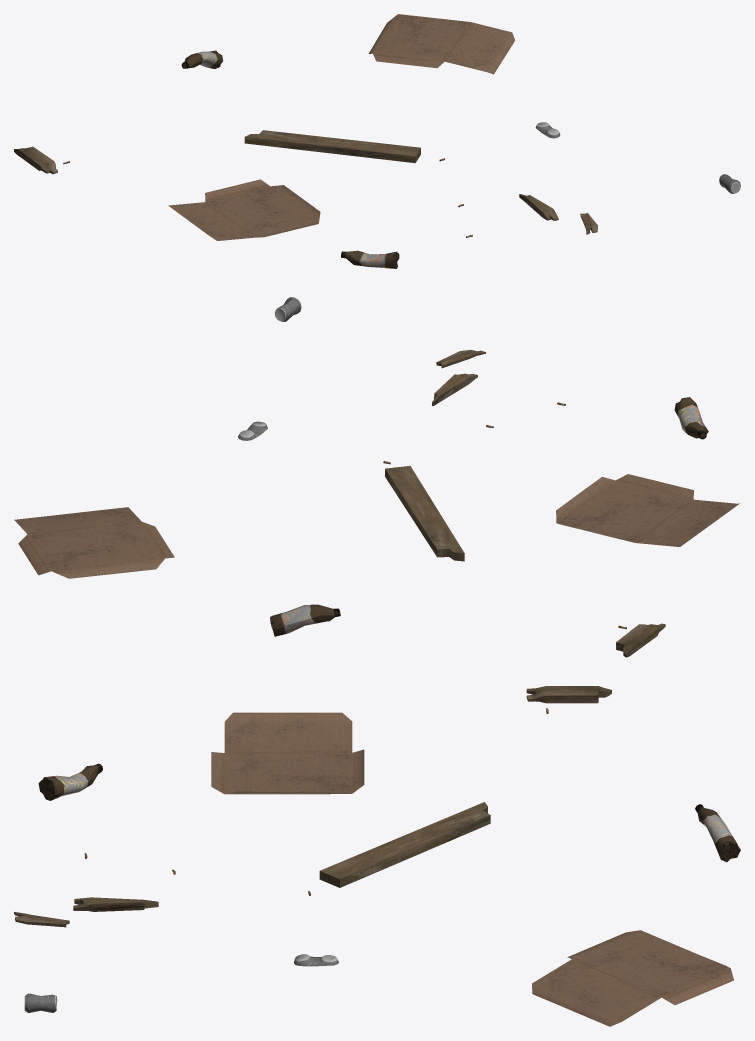
Rendered from GarbageDesbris_A.fbx.
3 renders of one model, top to bottom at view 1: azimuth 30°, elevation 25°; view 2: azimuth 150°, elevation 25°; view 3: azimuth 270°, elevation 25°, orthographic. The views are drawn at different scales.
Parts seen in each view (by area): view 1: GarbageDesbris_A_LOD0; view 2: GarbageDesbris_A_LOD0; view 3: GarbageDesbris_A_LOD0.
Boxes of the visible parts, x1,y1,x2,y2 form: GarbageDesbris_A_LOD0: (14,14,740,268); GarbageDesbris_A_LOD0: (14,297,739,657); GarbageDesbris_A_LOD0: (14,686,740,1026).
Size of what is drawn, in the model's own units: 403 by 20.45 by 384.
